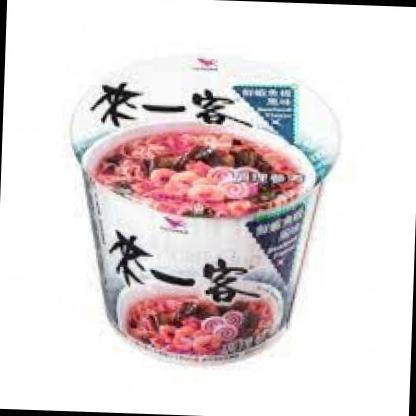Ramen: (69, 46, 352, 368)
